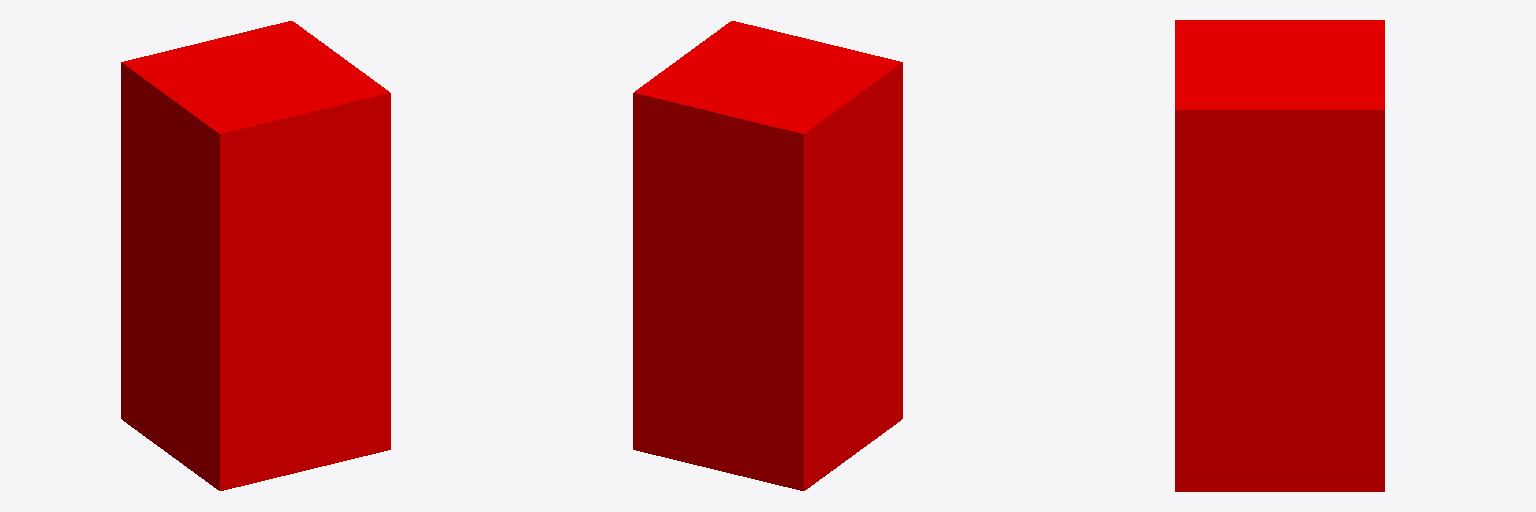
The robot description file, URDF, robot "red_box":
<?xml version="1.0"?>
<robot name="red_box">

  <link name="box_link">
    <collision>
      <origin xyz="0 0 0.04" rpy="0 0 0" />
      <geometry>
        <box size="0.04 0.04 0.08" />
      </geometry>
    </collision>

    <visual>
      <origin xyz="0 0 0.04" rpy="0 0 0" />
      <geometry>
        <box size="0.04 0.04 0.08" />
      </geometry>
      <material name="red">
        <color rgba="1 0 0 1.0" />
      </material>
    </visual>

    <inertial>
      <origin xyz="0.0 0.0 0.04" rpy="0 0 0" />
      <mass value="0.13568" />
      <inertia ixx="9e-05" iyy="9e-05" izz="3.6e-05" ixy="0.0" iyz="0.0" ixz="0.0" />
    </inertial>
  </link>

  <gazebo reference="box_link">
    <material>Gazebo/Red</material>
    <kp>1000000.0</kp>
    <kd>1.0</kd>
    <mu1>1.16</mu1>
    <mu2>1.16</mu2>
    <maxVel>0.0</maxVel>
    <minDepth>0.003</minDepth>
  </gazebo>


</robot>

--- What the picture shows (computed from the rendered views, not written in the file) ---
Views: 3 orthographic renders of the robot side by side, from view 1: azimuth 30°, elevation 25°; view 2: azimuth 150°, elevation 25°; view 3: azimuth 270°, elevation 25°.
Model red_box with 1 links and 0 joints (none), rooted at box_link, posed every joint at zero.
Links seen in each view (by area): view 1: box_link; view 2: box_link; view 3: box_link.
Link boxes in pixels (bbox=[...]): box_link: bbox=[121, 21, 390, 490]; box_link: bbox=[633, 21, 902, 490]; box_link: bbox=[1175, 20, 1384, 491].
Bounding box of the posed robot: 0.04 × 0.04 × 0.08 m (x, y, z).
Geometry: primitives only (box / cylinder / sphere), no mesh files.